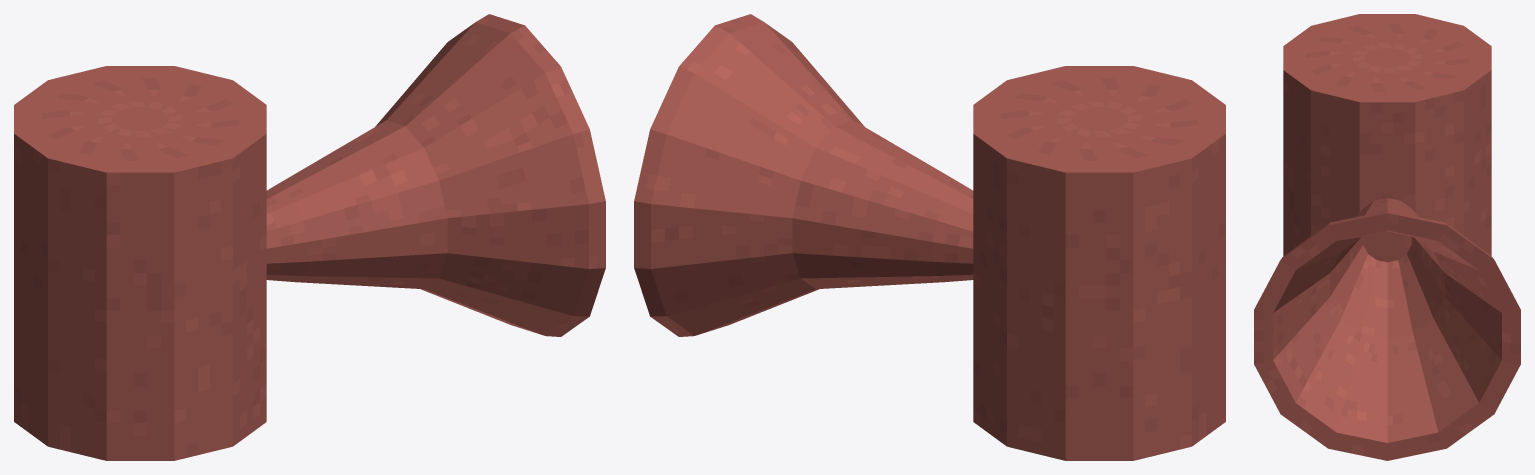
The model's file is airhorn.glb.
3 views of the same model, side by side, from view 1: azimuth 30°, elevation 25°; view 2: azimuth 150°, elevation 25°; view 3: azimuth 270°, elevation 25° (orthographic). The views are drawn at different scales.
Parts seen in each view (by area): view 1: block_horn base cylinder, block_flared horn; view 2: block_horn base cylinder, block_flared horn; view 3: block_flared horn, block_horn base cylinder.
Boxes of the visible parts, left/top/right/bottom form: block_horn base cylinder: left=14, top=66, right=266, bottom=460; block_flared horn: left=266, top=14, right=605, bottom=336; block_horn base cylinder: left=973, top=66, right=1225, bottom=460; block_flared horn: left=634, top=14, right=973, bottom=336; block_flared horn: left=1254, top=198, right=1520, bottom=460; block_horn base cylinder: left=1283, top=14, right=1491, bottom=262.
Size of the model in its own units: 0.1197 by 0.0695 by 0.0678.
Materials: 1 (1 with a texture image).
